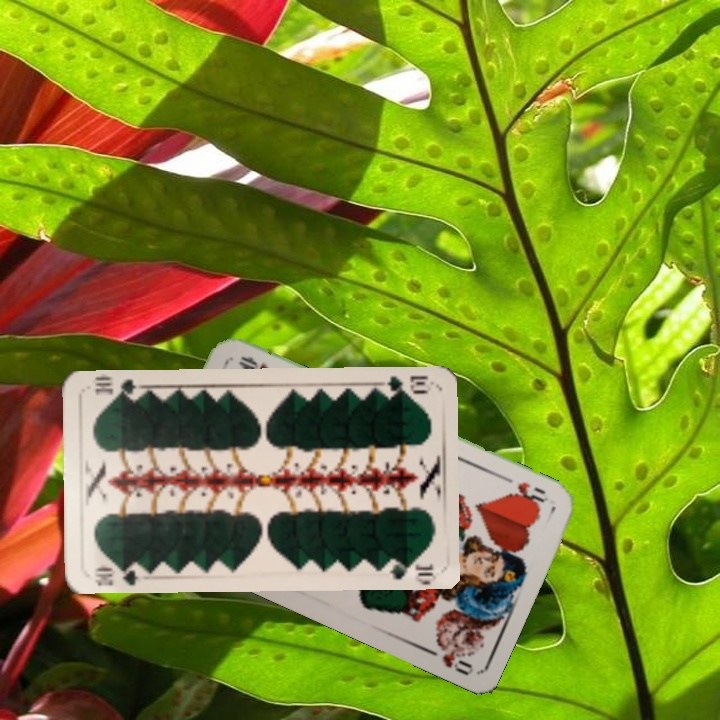G10: (374, 371, 430, 398), (91, 560, 142, 587)
HO: (497, 471, 551, 510)
